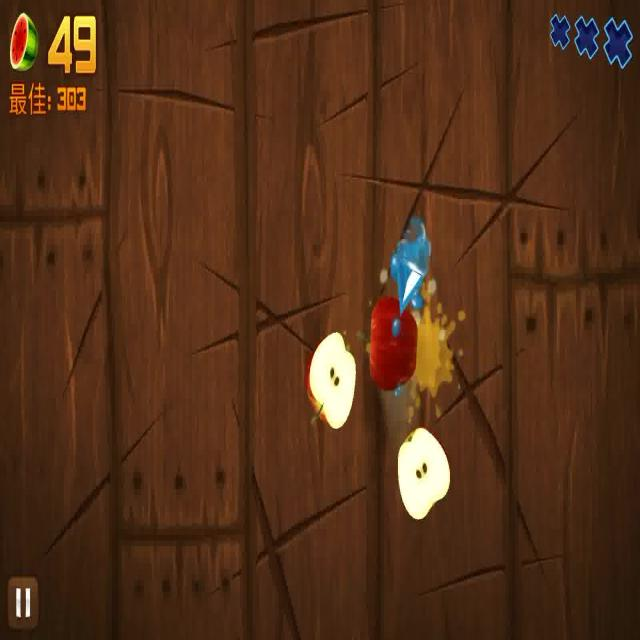fruit: (306, 329, 358, 433), (397, 428, 451, 522), (370, 295, 418, 395)
